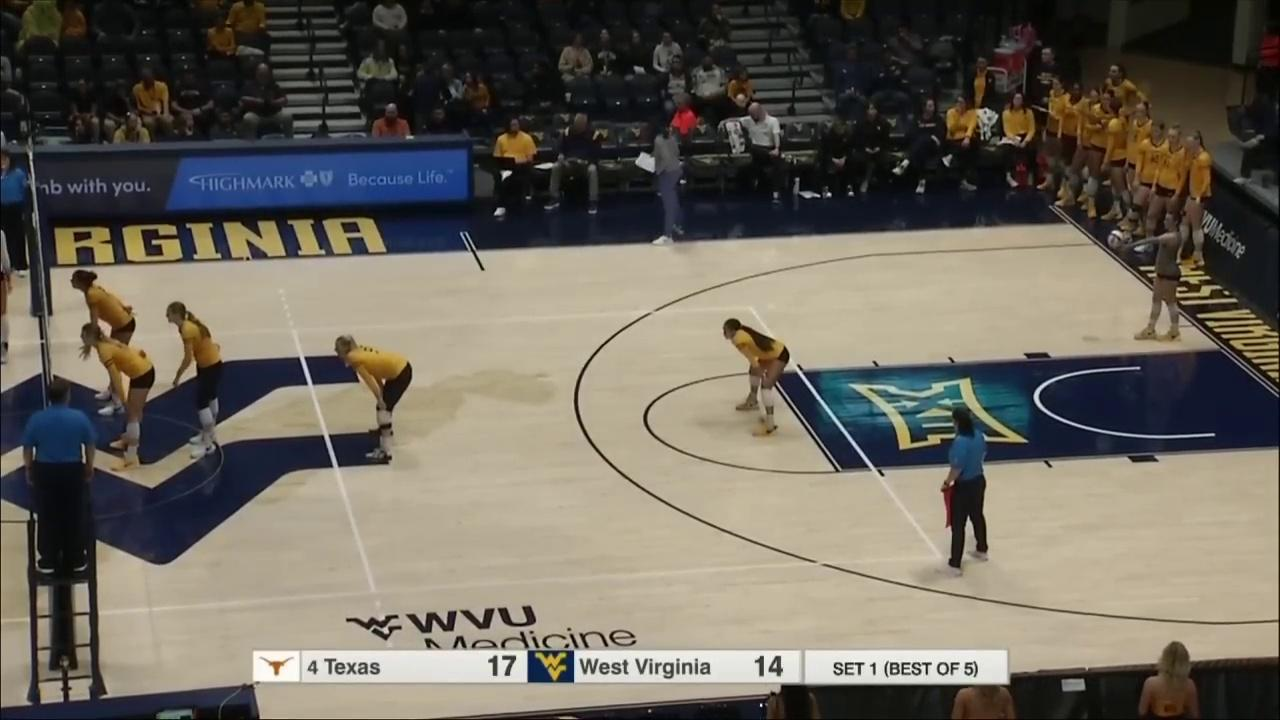player: (80, 323, 157, 473), (333, 335, 413, 465), (714, 320, 793, 441), (167, 303, 225, 460), (63, 271, 130, 405), (1142, 207, 1185, 346)
refree: (25, 383, 95, 577), (940, 406, 994, 581), (0, 147, 32, 280)
